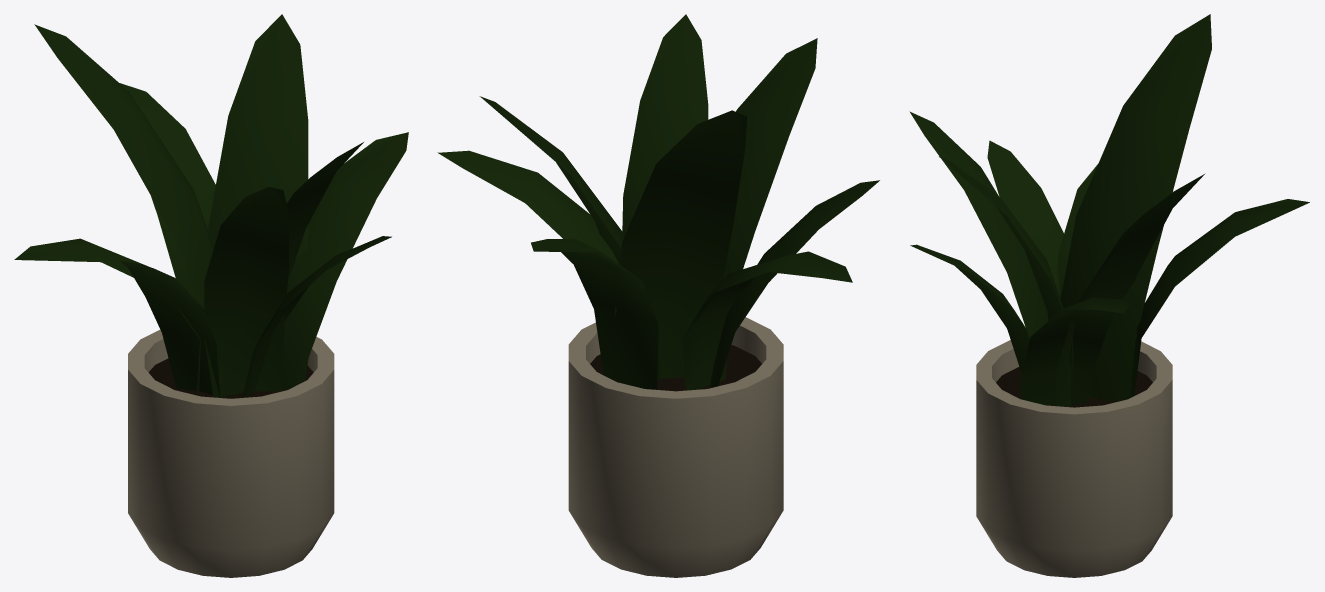
File: Gorshok_Cveti_1.fbx
3 views of the same model, side by side, from view 1: azimuth 30°, elevation 25°; view 2: azimuth 150°, elevation 25°; view 3: azimuth 270°, elevation 25° (orthographic). The views are drawn at different scales.
Parts seen in each view (by area): view 1: Cylinder002; view 2: Cylinder002; view 3: Cylinder002.
Part boxes in pixels (left/top/right/bottom): Cylinder002: left=14, top=14, right=408, bottom=577; Cylinder002: left=437, top=14, right=879, bottom=577; Cylinder002: left=909, top=14, right=1309, bottom=577.
Bounding box in the file's own units: 109 × 130 × 99.94.
